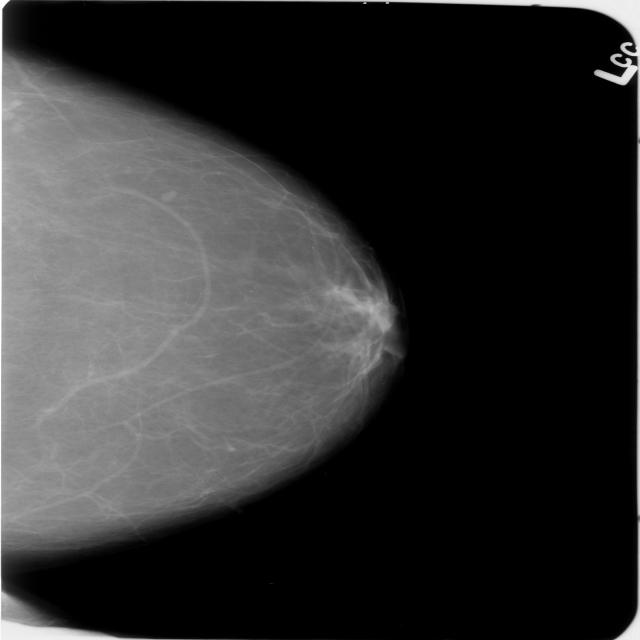normal: (0, 35, 407, 583)
